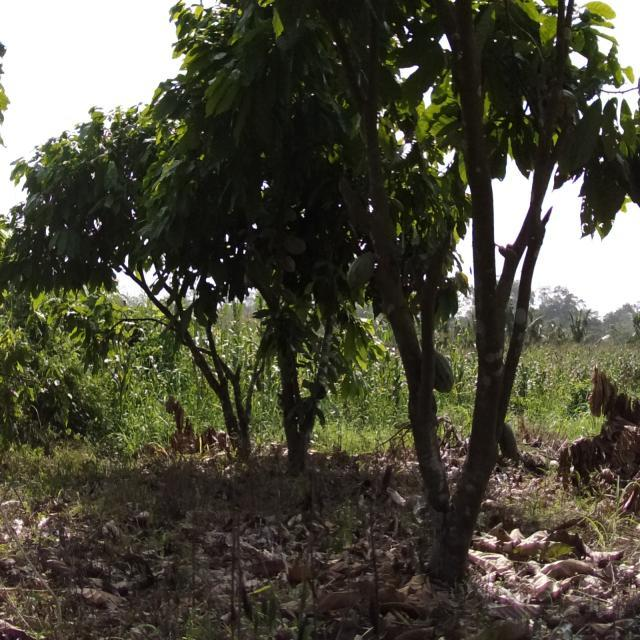Immature: (388, 195, 413, 218)
Mature_Unripe: (426, 344, 459, 396), (347, 248, 377, 296), (285, 236, 314, 260), (280, 255, 300, 277), (279, 289, 297, 312)
Spoit: (500, 421, 522, 463), (496, 243, 523, 266)
